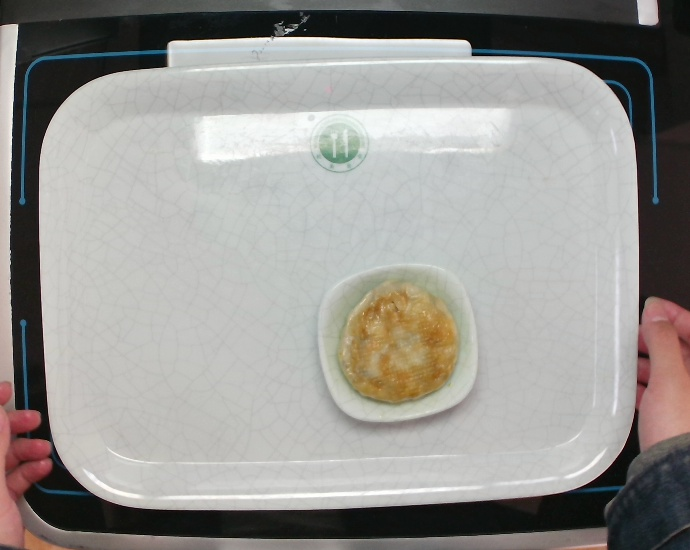JYsf-Si_Fang_Die: (317, 260, 481, 428)
